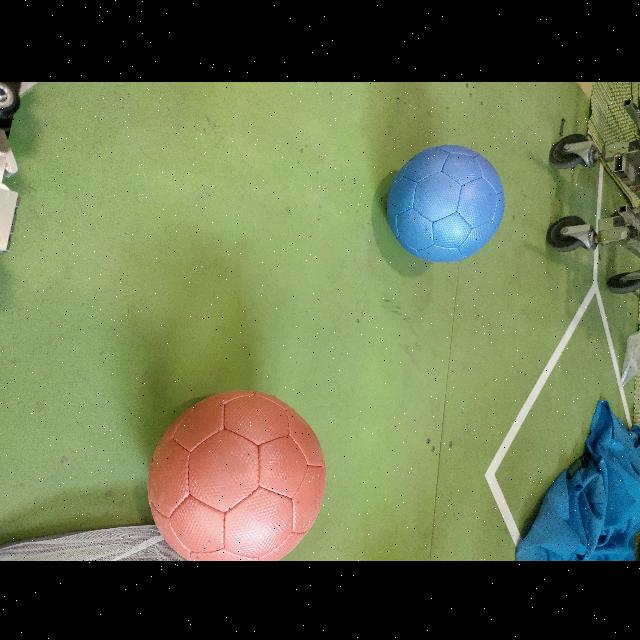B: (380, 142, 504, 262)
R: (145, 388, 325, 560)
